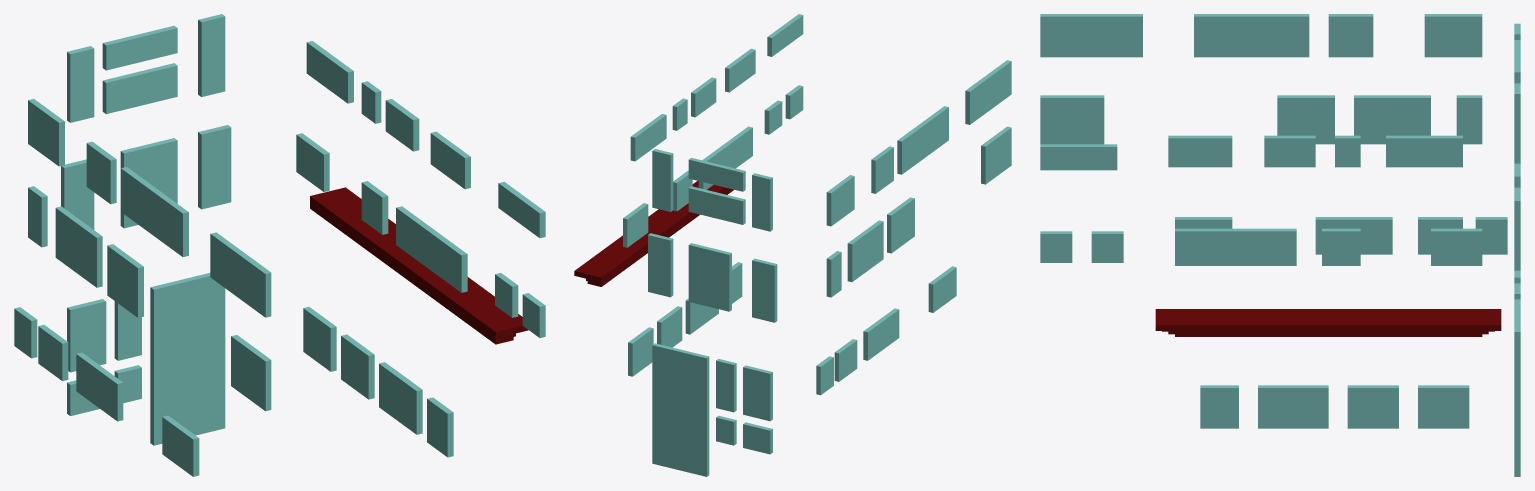
Rendered from SideBuildings2-0.obj.
3 renders of one model, left to right at view 1: azimuth 30°, elevation 25°; view 2: azimuth 150°, elevation 25°; view 3: azimuth 270°, elevation 25°, orthographic. The views are drawn at different scales.
Bounding box in the file's own units: 5.5 × 6.6 × 7.5.
1 material, 1 textured.
